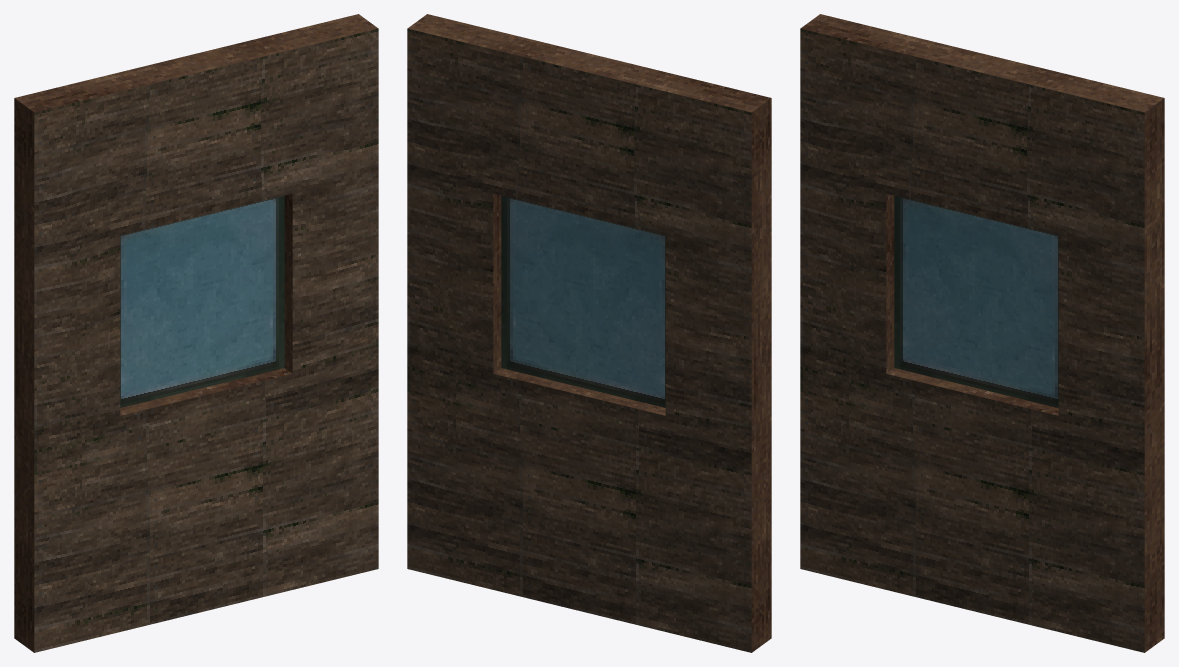
File: window_small_single_02.glb
The picture shows the model from 3 angles, left to right: view 1: azimuth 30°, elevation 25°; view 2: azimuth 150°, elevation 25°; view 3: azimuth 330°, elevation 25°; orthographic projection.
Parts seen in each view (by area): view 1: window_small_single_022, window_small_02_003; view 2: window_small_single_022, window_small_02_003; view 3: window_small_single_022, window_small_02_003.
Part boxes in pixels (bbox=[...]): window_small_single_022: bbox=[14, 14, 378, 652]; window_small_02_003: bbox=[120, 195, 284, 407]; window_small_single_022: bbox=[407, 14, 771, 652]; window_small_02_003: bbox=[501, 195, 665, 407]; window_small_single_022: bbox=[800, 14, 1164, 652]; window_small_02_003: bbox=[894, 195, 1058, 407].
Size of the model in its own units: 2 by 3 by 0.2.
Materials: 2 (2 with a texture image).
